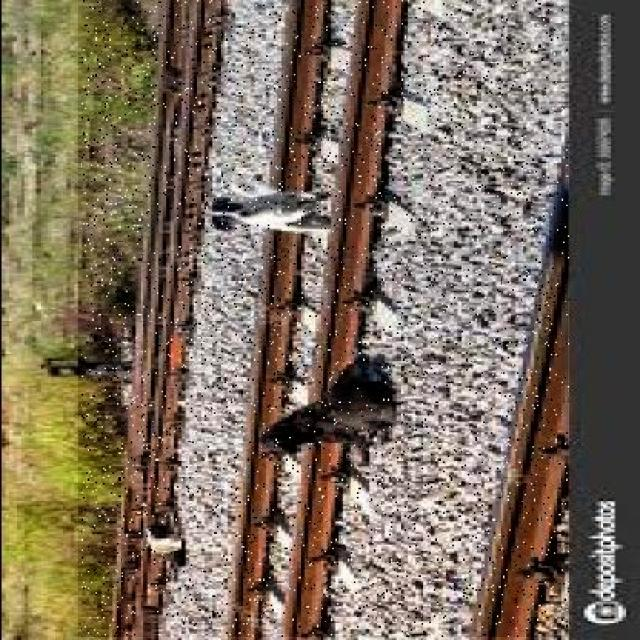rail: (79, 1, 569, 638)
